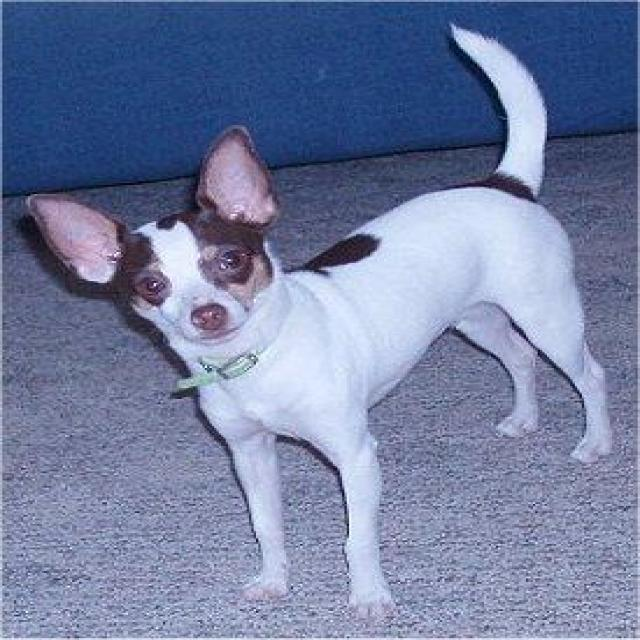toy_terrier: (19, 22, 616, 616)
